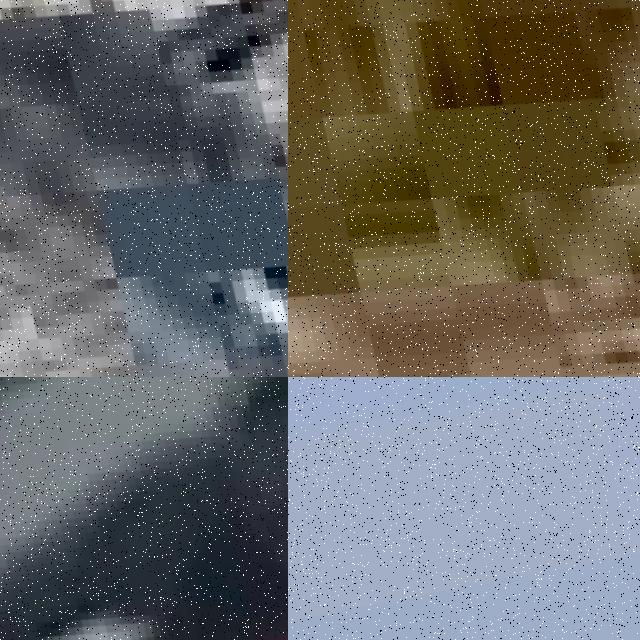drone: (288, 0, 640, 377), (0, 0, 288, 377), (0, 377, 288, 640)
